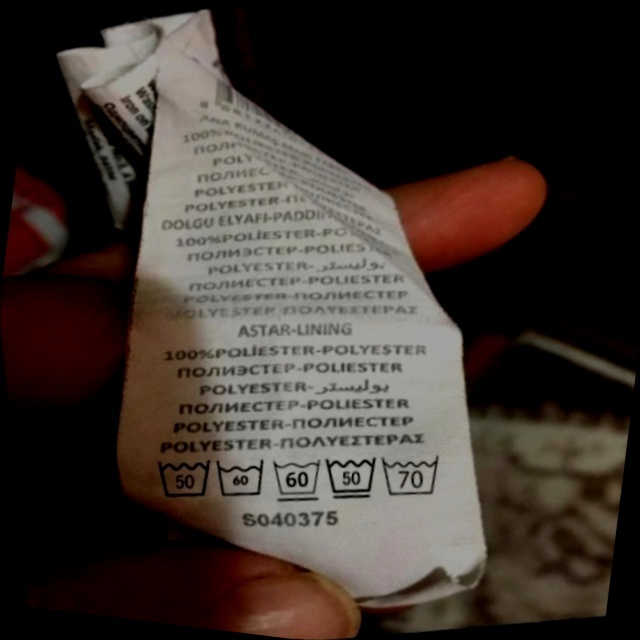50C: (144, 441, 224, 513), (316, 443, 389, 512)
60C: (264, 445, 334, 512), (207, 446, 277, 511)
70C: (374, 441, 455, 509)
